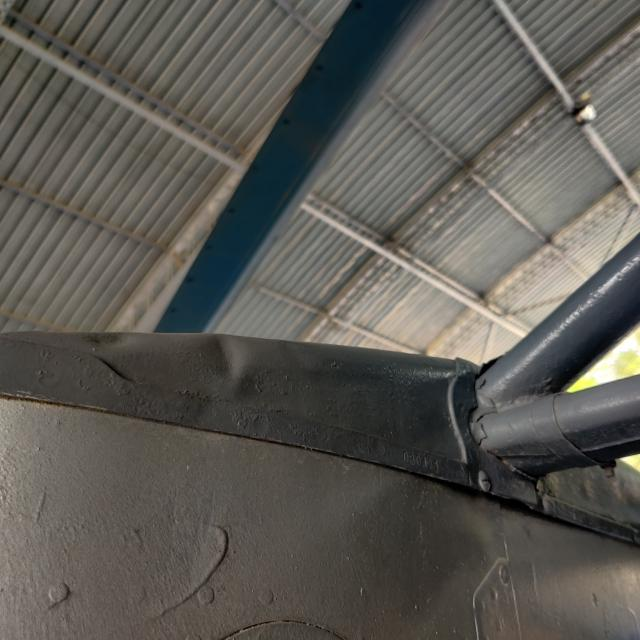dent: (192, 326, 256, 395), (81, 322, 132, 359)
